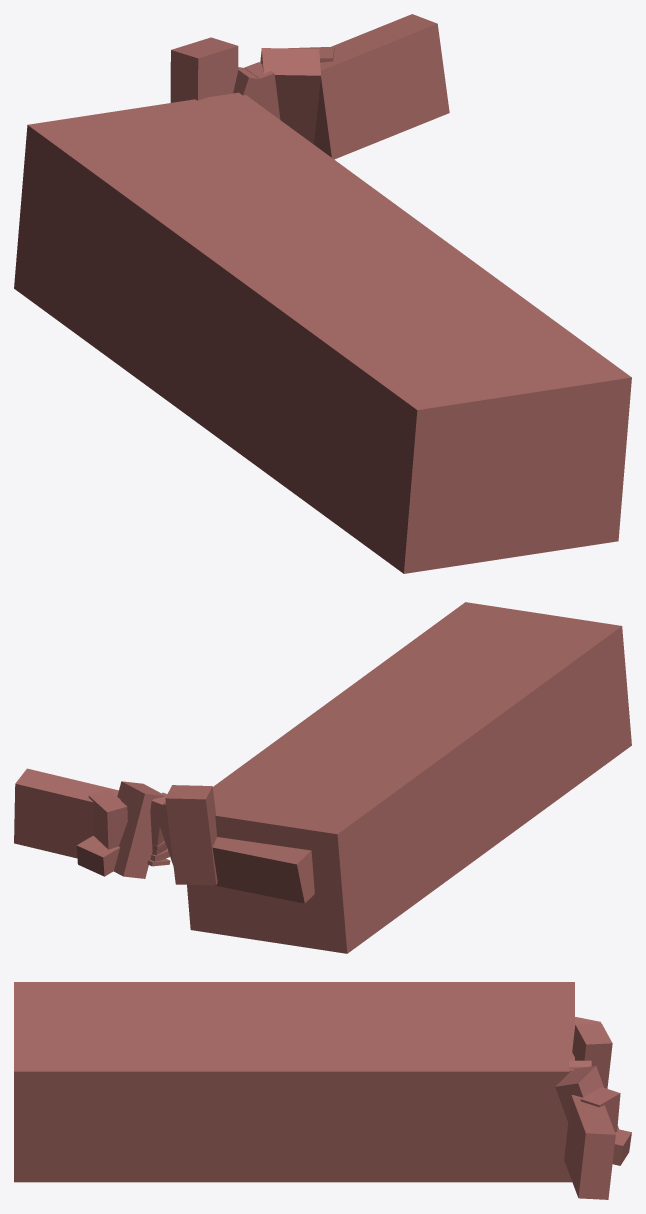
Rendered from GameObject.fbx.
3 renders of one model, top to bottom at view 1: azimuth 30°, elevation 25°; view 2: azimuth 150°, elevation 25°; view 3: azimuth 270°, elevation 25°, orthographic. The views are drawn at different scales.
Parts seen in each view (by area): view 1: Cube__34_, Cube__73_, Cube__70_, Cube__71_, Cube__41_; view 2: Cube__34_, Cube__73_, Cube__72_, Cube__71_, Cube__70_, Cube__75_, Cube__74_, Cube__41_; view 3: Cube__34_, Cube__73_, Cube__71_, Cube__70_, Cube__75_, Cube__74_.
Boxes of the visible parts, bbox=[...] form: Cube__34_: bbox=[14, 92, 631, 573]; Cube__73_: bbox=[314, 14, 449, 159]; Cube__70_: bbox=[260, 48, 320, 144]; Cube__71_: bbox=[170, 37, 238, 102]; Cube__41_: bbox=[244, 62, 280, 119]; Cube__34_: bbox=[187, 602, 631, 953]; Cube__73_: bbox=[14, 768, 120, 858]; Cube__72_: bbox=[212, 837, 314, 903]; Cube__71_: bbox=[165, 785, 217, 885]; Cube__70_: bbox=[113, 781, 165, 878]; Cube__75_: bbox=[88, 790, 127, 849]; Cube__74_: bbox=[76, 835, 119, 876]; Cube__41_: bbox=[150, 792, 167, 855]; Cube__34_: bbox=[14, 982, 574, 1182]; Cube__73_: bbox=[564, 1095, 615, 1199]; Cube__71_: bbox=[572, 1023, 612, 1088]; Cube__70_: bbox=[555, 1065, 618, 1129]; Cube__75_: bbox=[580, 1087, 620, 1132]; Cube__74_: bbox=[612, 1129, 631, 1165].
Size of the model in its own units: 29153 by 13018 by 49502.
